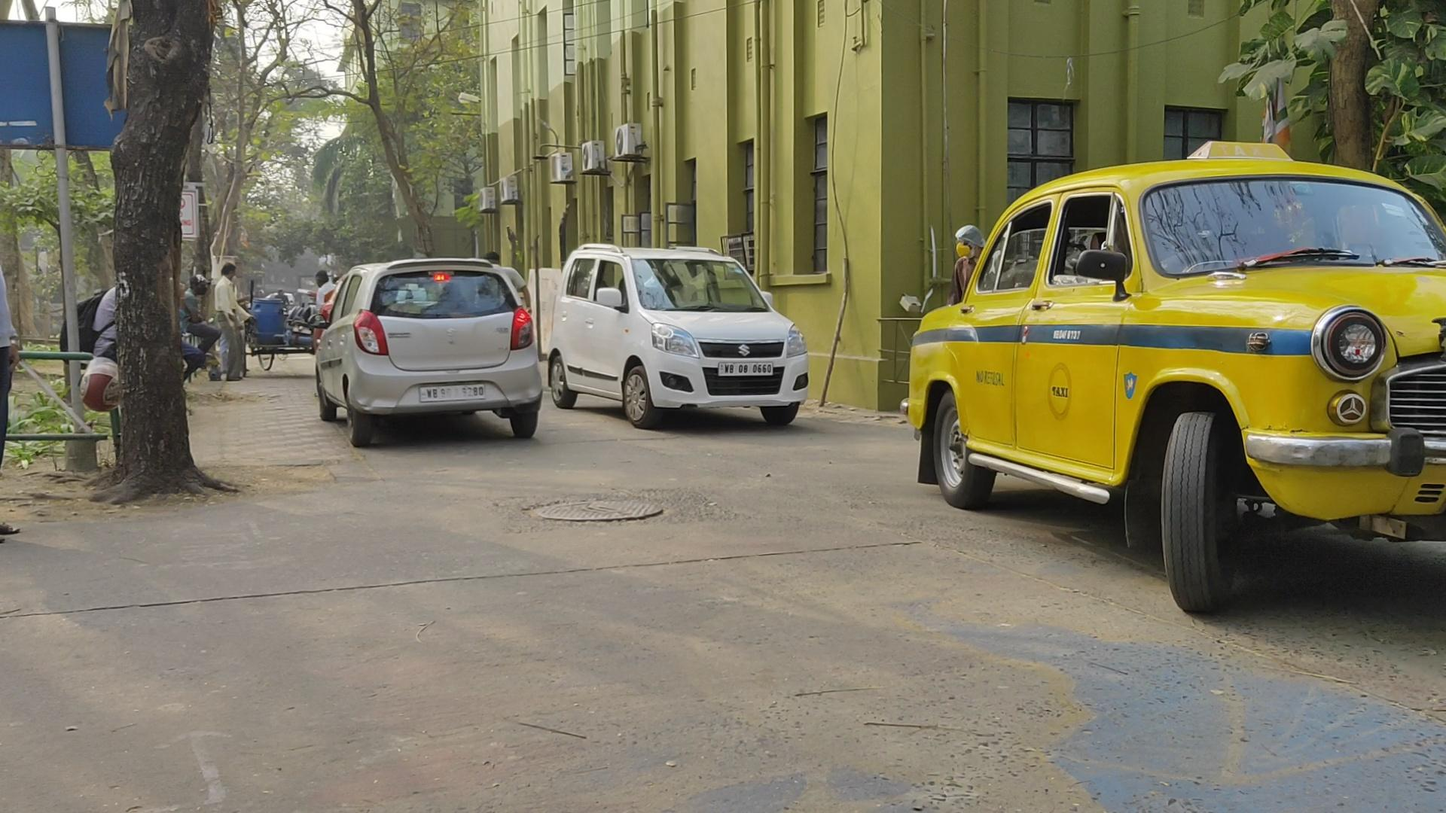car: (900, 142, 1446, 618), (549, 245, 810, 431), (316, 259, 541, 448)
